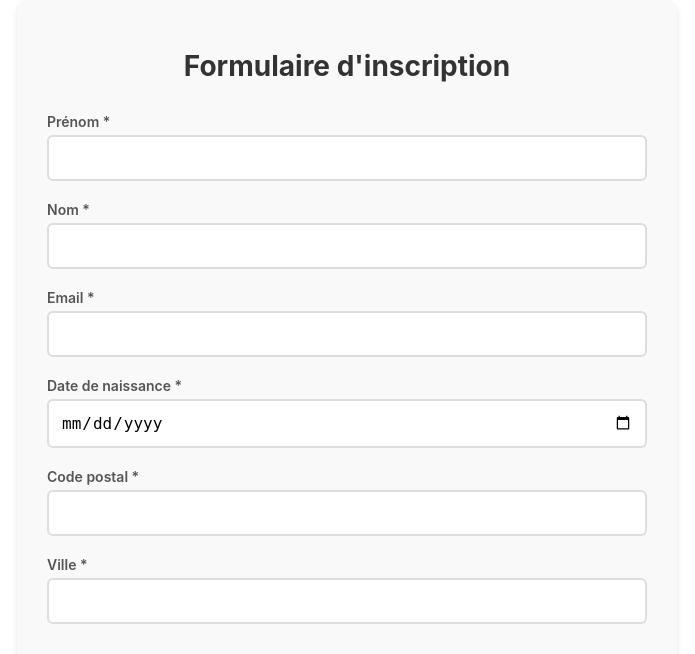
Scenario: UserForm - Tests d'intégration › Validation en temps réel - Scénarios chaotiques › détecte une tentative XSS dans le prénom
Type "<script>alert(\"XSS\")</script>" into the field labelled "Prénom *".
click(347, 158); type("<script>alert(\"XSS\")</script>")  # box [47, 135, 647, 181]
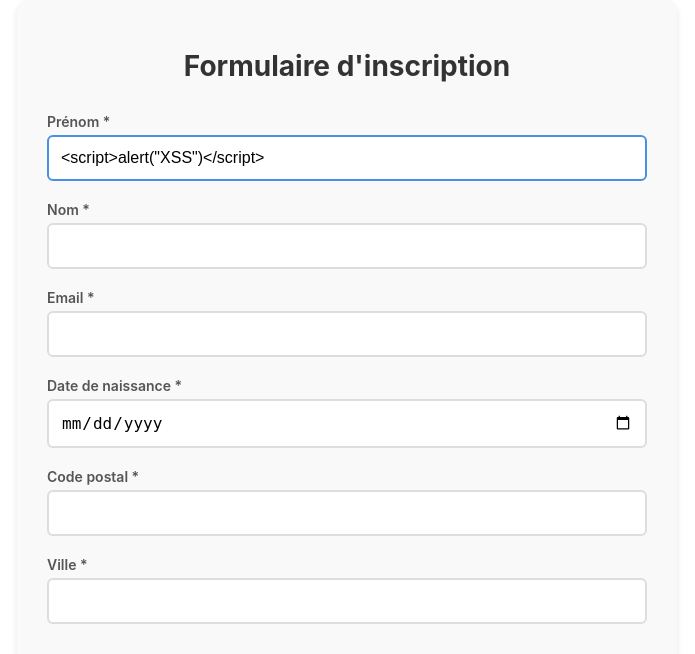
Press Tab
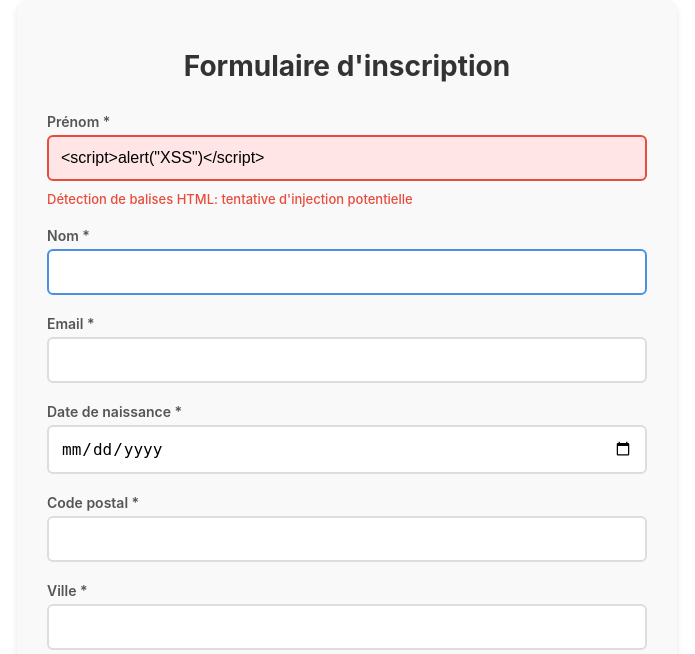
Now the message shows "balises HTML", box [47, 191, 413, 207]
